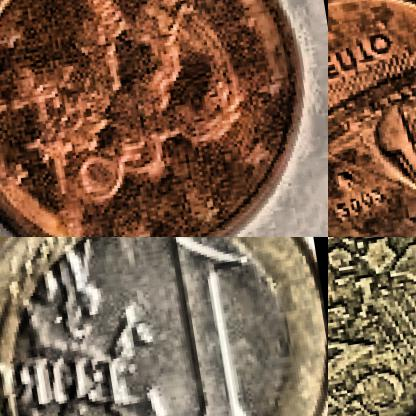coin: (0, 0, 327, 236), (0, 237, 327, 415), (328, 0, 415, 236), (328, 237, 415, 415)
